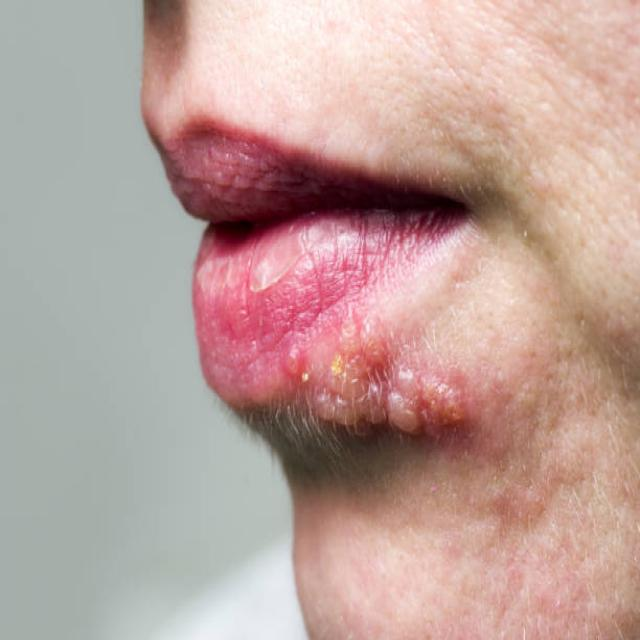processing_area: (148, 86, 515, 460)
ulcer-detection: (259, 300, 499, 458)
